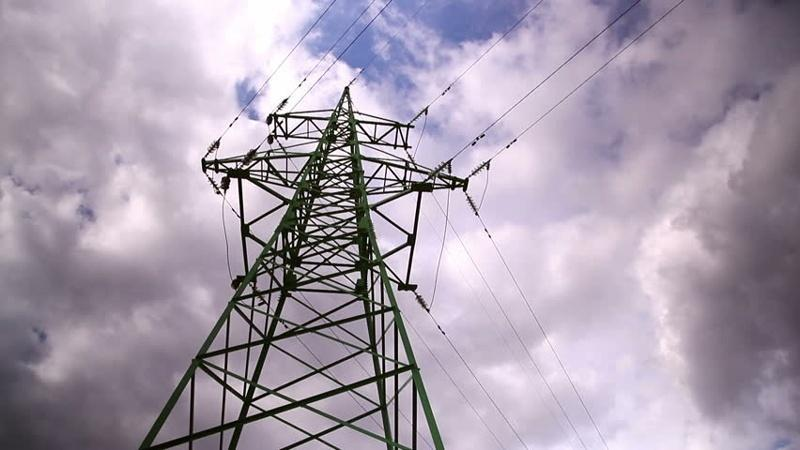power_tower: (137, 84, 496, 450)
